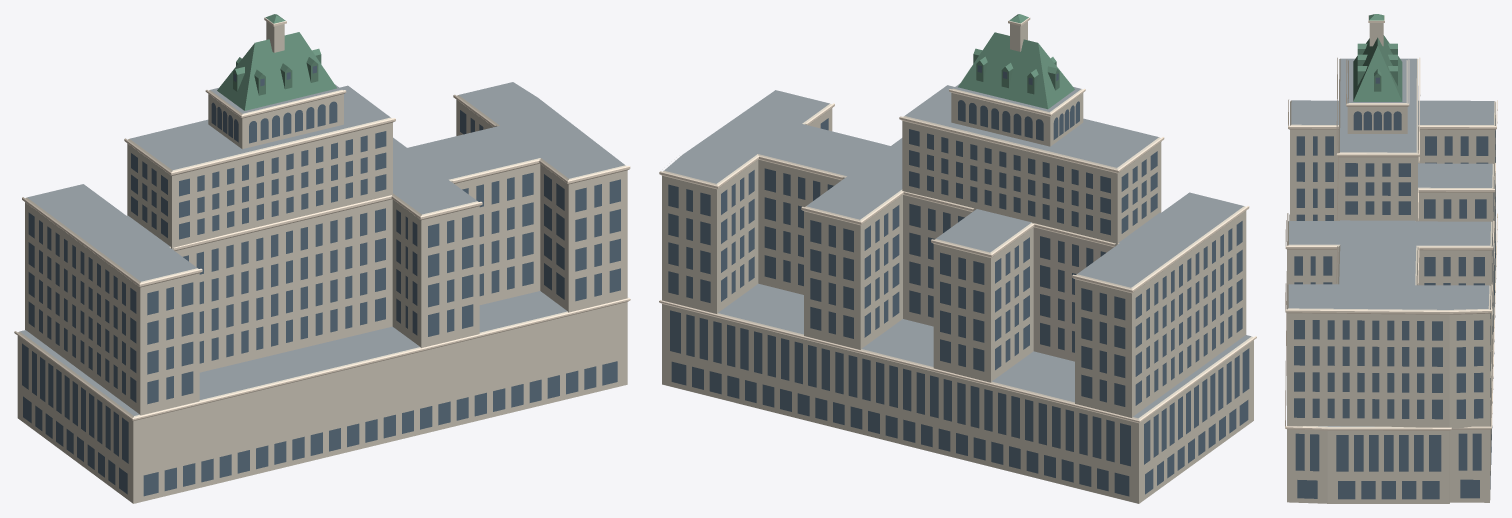
File: tor-fairmont-royal-york.glb
3 views of the same model, side by side, from view 1: azimuth 30°, elevation 25°; view 2: azimuth 150°, elevation 25°; view 3: azimuth 270°, elevation 25° (orthographic). The views are drawn at different scales.
Visible parts, largest first — view 1: Fairmont Royal York; view 2: Fairmont Royal York; view 3: Fairmont Royal York.
Part boxes in pixels (x1,y1,x2,y2): Fairmont Royal York: [14, 14, 630, 503]; Fairmont Royal York: [659, 14, 1256, 503]; Fairmont Royal York: [1285, 14, 1497, 503].
Bounding box in the file's own units: 151 × 117 × 62.81.
